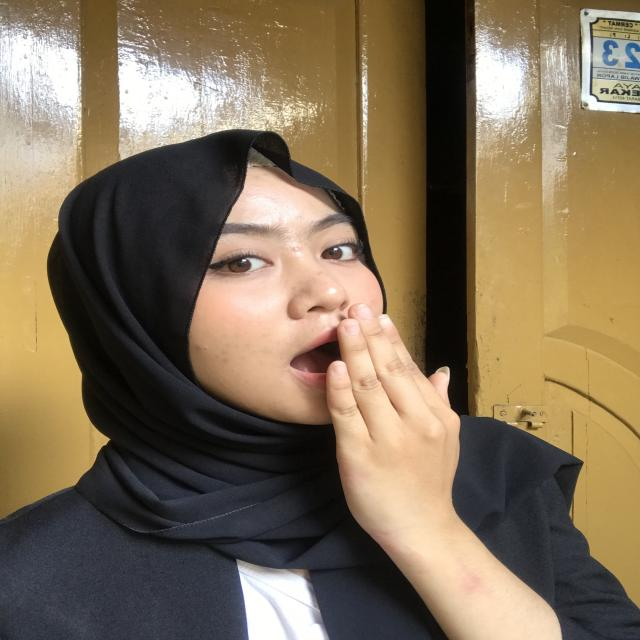ngantuk: (265, 296, 541, 572)
